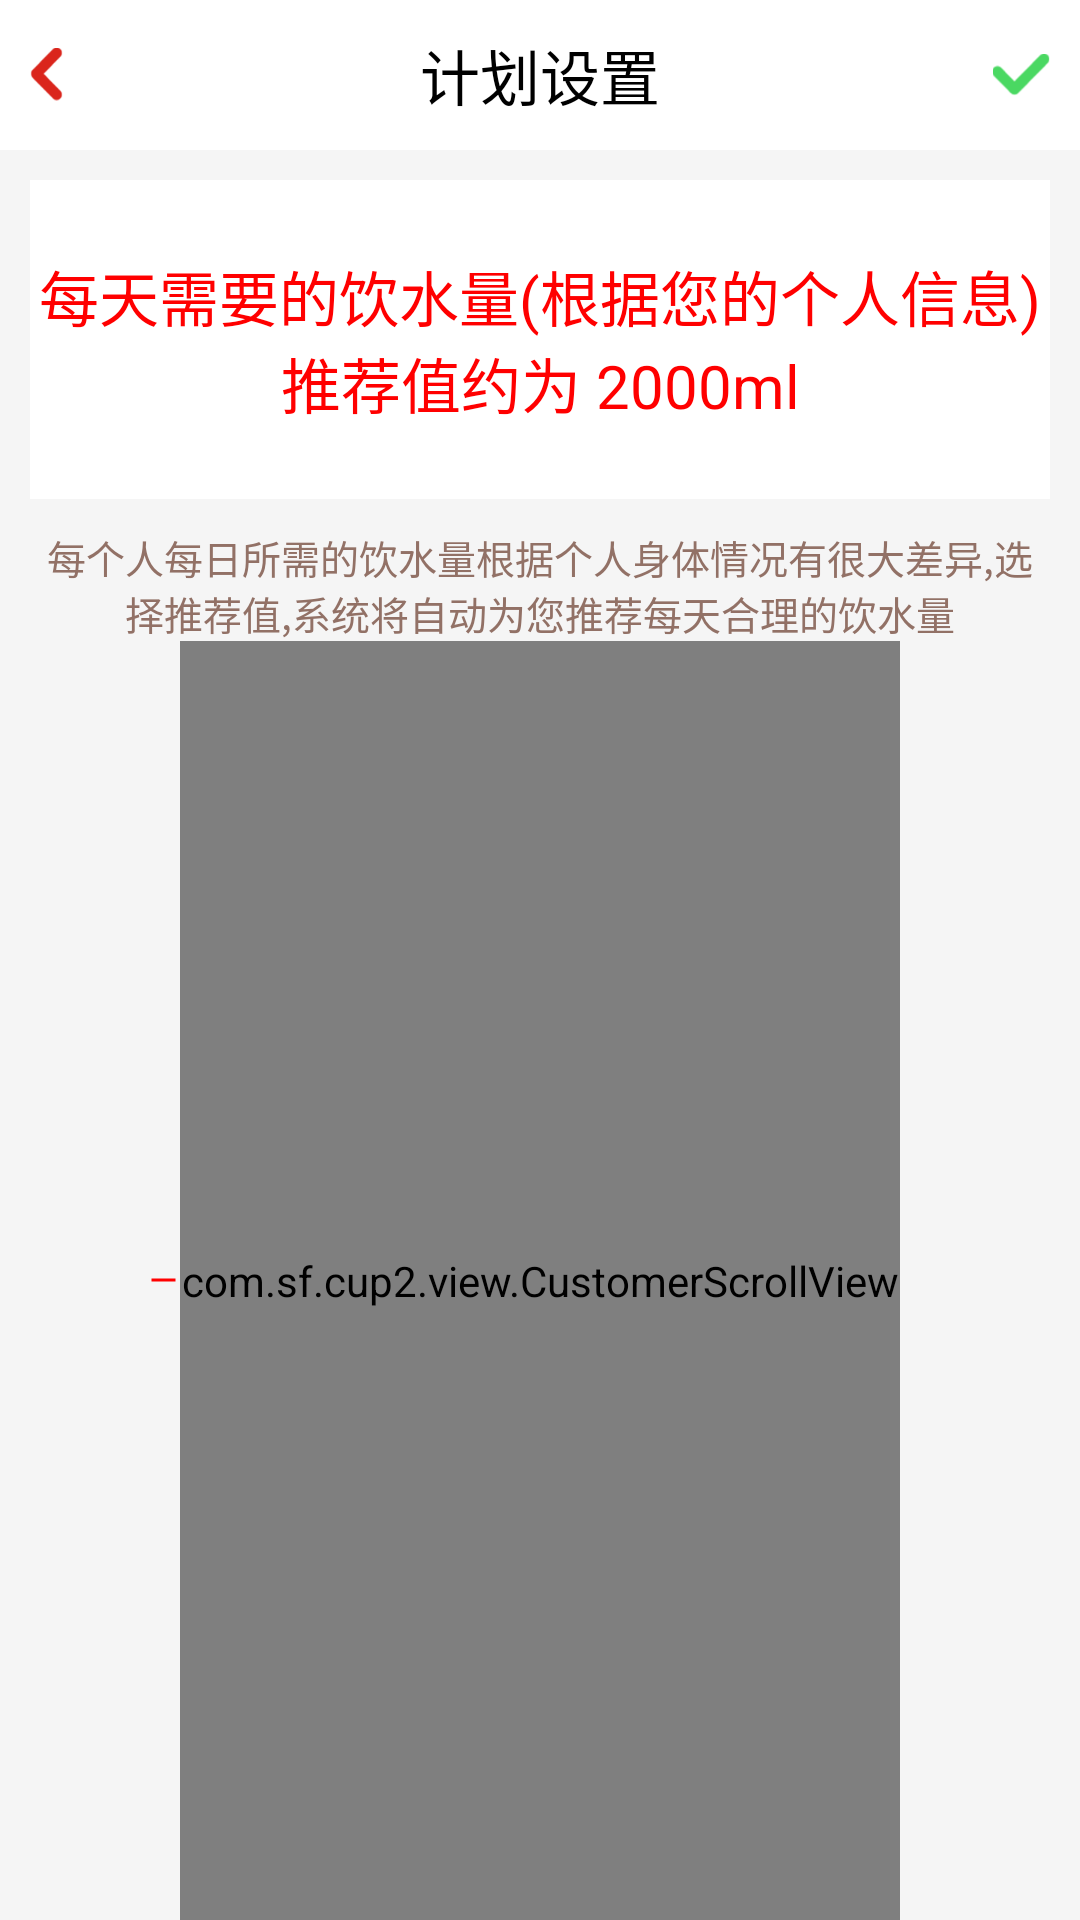

Icons on this 1080px x 1920px Android screen, each with the point to tap as (x=x, y=y):
bar back: (x=46, y=74)
bar save: (x=1021, y=74)
